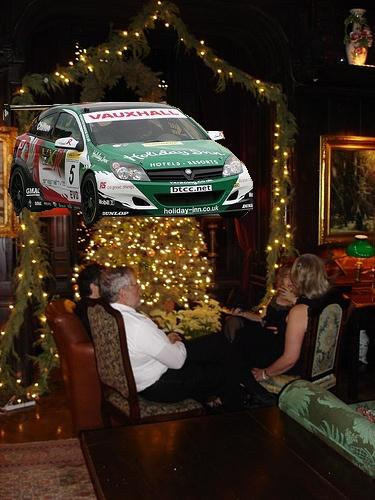tampered: (4, 103, 253, 225)
